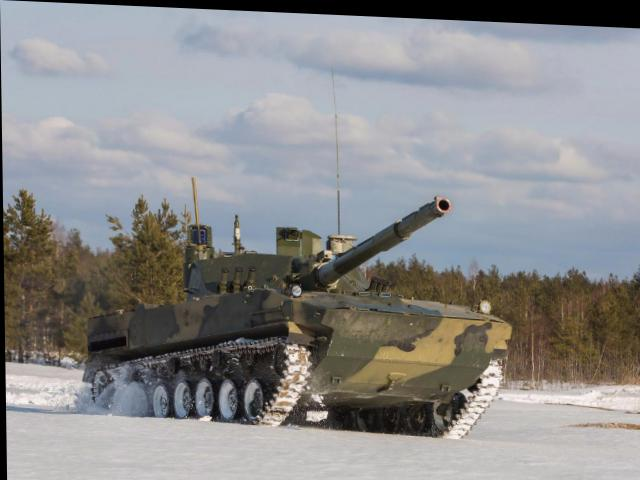tank: (86, 223, 500, 435)
